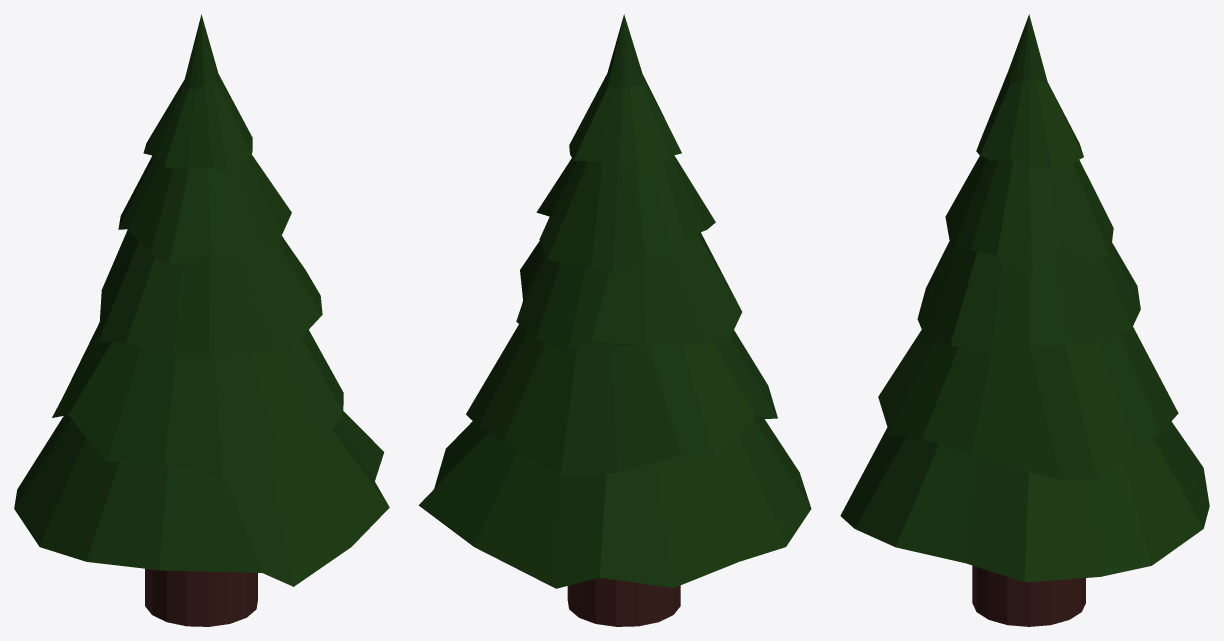
File: TanneAsym.fbx
The picture shows the model from 3 angles, left to right: view 1: azimuth 30°, elevation 25°; view 2: azimuth 150°, elevation 25°; view 3: azimuth 270°, elevation 25°; orthographic projection.
Parts seen in each view (by area): view 1: TanneAsym; view 2: TanneAsym; view 3: TanneAsym.
Part boxes in pixels (bbox=[...]): TanneAsym: bbox=[14, 14, 389, 626]; TanneAsym: bbox=[418, 14, 811, 626]; TanneAsym: bbox=[840, 14, 1209, 626].
Bounding box in the file's own units: 1676 × 2755 × 1567.
